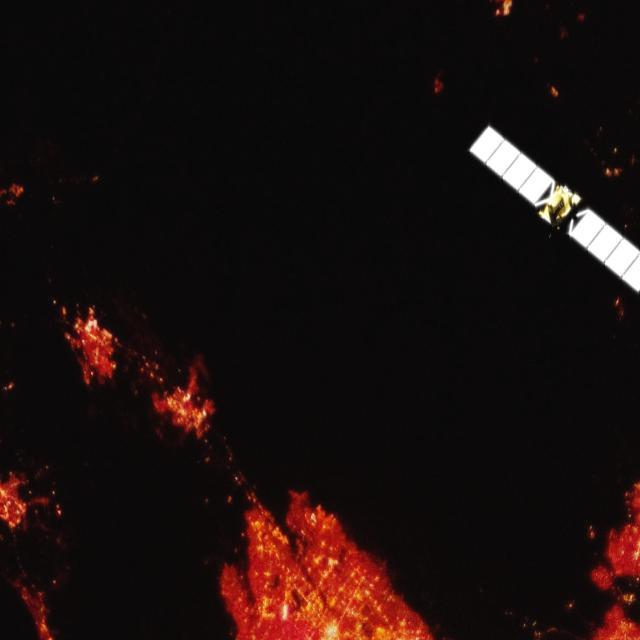satellite: (458, 123, 640, 302)
